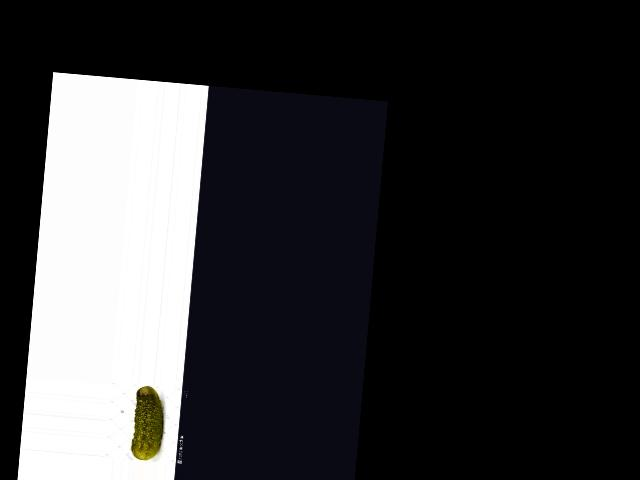cucumber: (130, 384, 166, 461)
